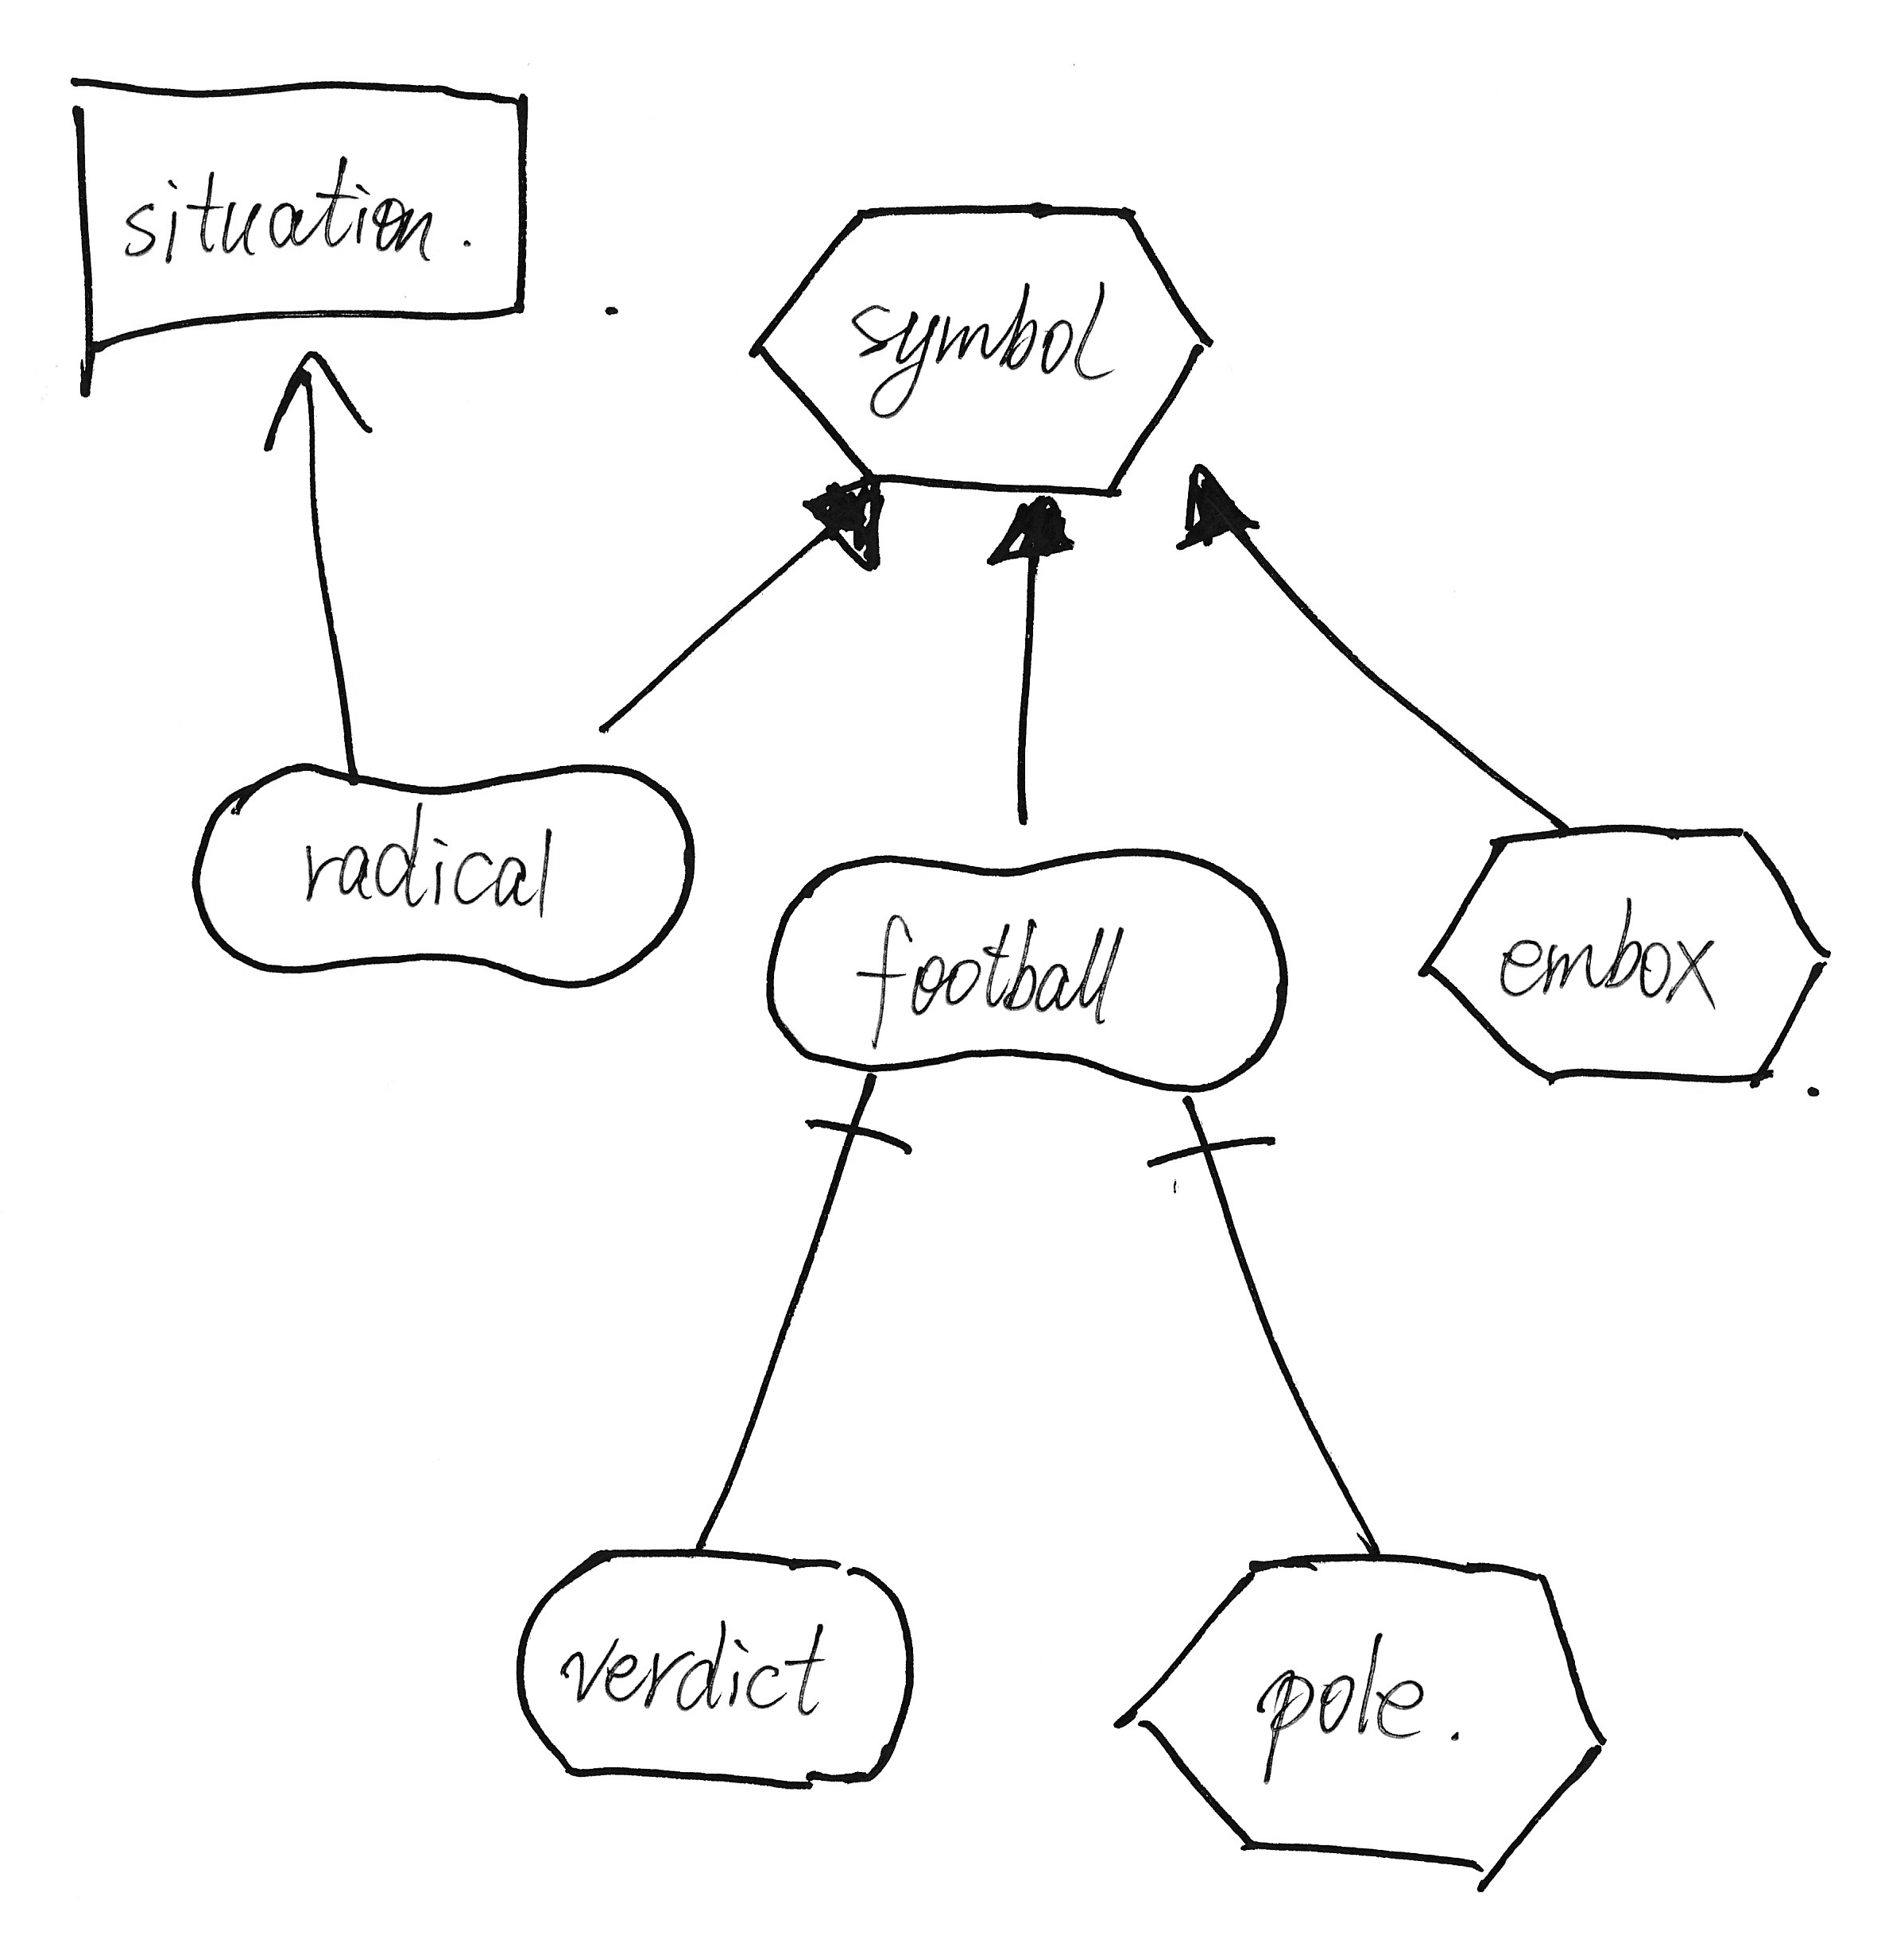and: (1129, 1093, 1294, 1208), (785, 1068, 927, 1180)
arrow: (236, 334, 385, 463)
goal: (502, 1530, 937, 1806)
or: (790, 465, 906, 589), (1161, 448, 1275, 570), (979, 483, 1089, 589)
quality: (754, 825, 1310, 1110), (171, 739, 720, 1024)
resource: (45, 54, 551, 381)
task: (1101, 1537, 1628, 1900), (738, 180, 1219, 512), (1407, 811, 1852, 1107)
